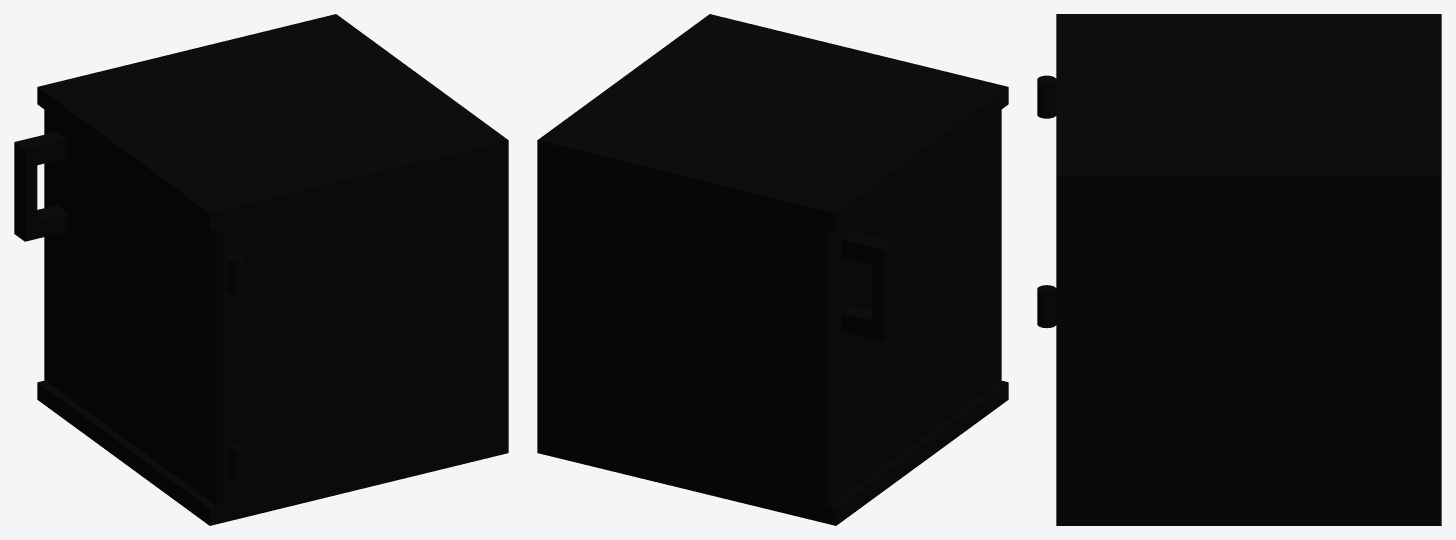
Rendered from HEA_glTF2.glb.
The picture shows the model from 3 angles, left to right: view 1: azimuth 30°, elevation 25°; view 2: azimuth 150°, elevation 25°; view 3: azimuth 270°, elevation 25°; orthographic projection. The views are drawn at different scales.
Visible parts, largest first — view 1: Корпус, Дверь; view 2: Корпус, Дверь; view 3: Корпус.
Part boxes in pixels (<box>): Корпус: <box>37,14,508,525</box>; Дверь: <box>14,109,232,505</box>; Корпус: <box>537,14,1008,525</box>; Дверь: <box>813,109,1001,505</box>; Корпус: <box>1037,14,1441,525</box>.
Size of what is drawn, in the model's own units: 2.24 by 2 by 2.1.
2 materials, 2 textured.
